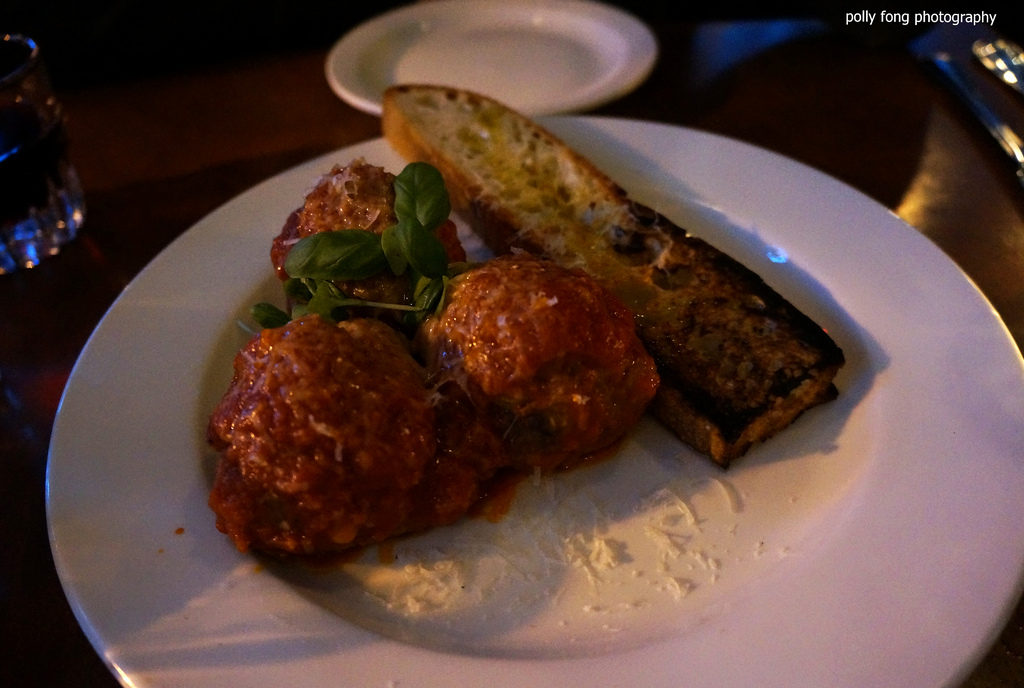meatballs: (231, 265, 638, 543), (272, 164, 471, 313)
slice of bread: (591, 246, 839, 427)
